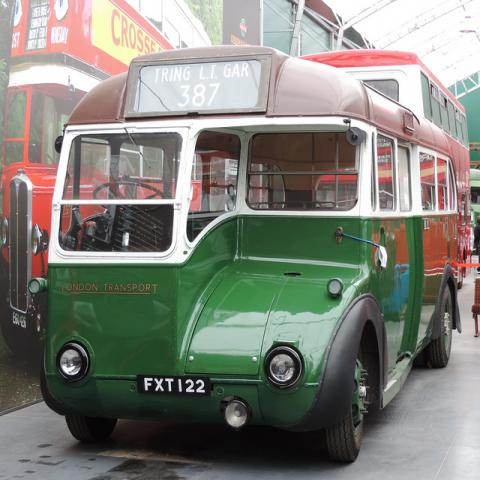bus: (23, 44, 471, 460), (0, 0, 238, 278), (314, 48, 470, 144)
